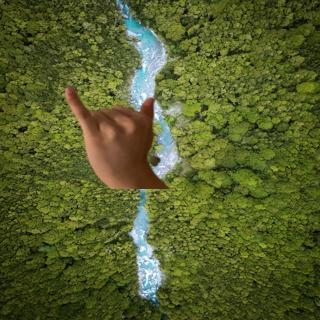HAVE: (51, 77, 168, 189)
